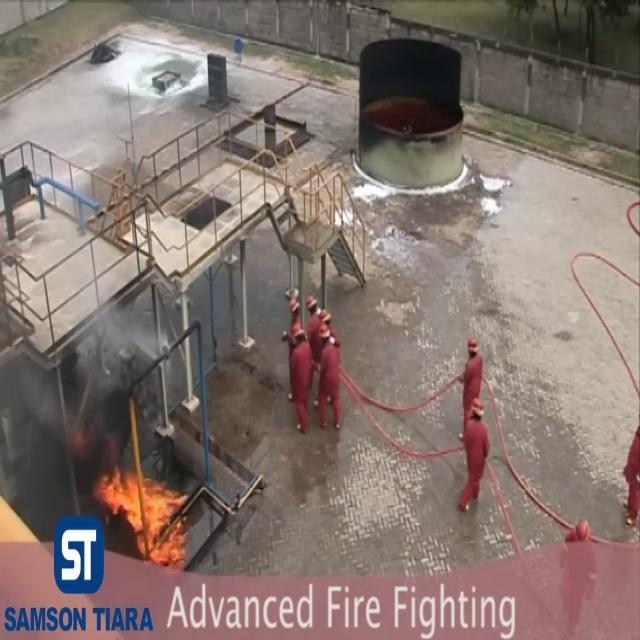Fire: (94, 402, 182, 560)
